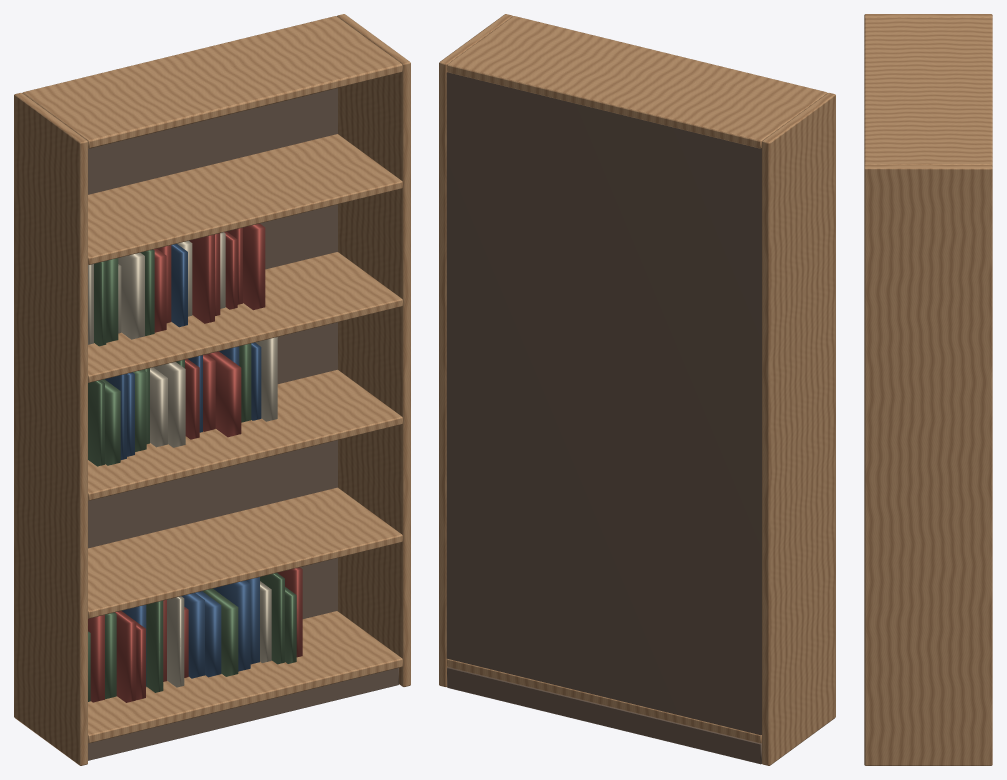
File: bookshelf-100.raw.glb
3 renders of one model, left to right at view 1: azimuth 30°, elevation 25°; view 2: azimuth 150°, elevation 25°; view 3: azimuth 270°, elevation 25°, orthographic. The views are drawn at different scales.
Visible parts, largest first — view 1: bookshelf-100; view 2: bookshelf-100; view 3: bookshelf-100.
Boxes of the visible parts, left/top/right/bottom form: bookshelf-100: left=14, top=14, right=410, bottom=765; bookshelf-100: left=439, top=14, right=835, bottom=765; bookshelf-100: left=864, top=14, right=992, bottom=765.
Bounding box in the file's own units: 1 × 1.8 × 0.35.
Materials: 6 (1 with a texture image).
